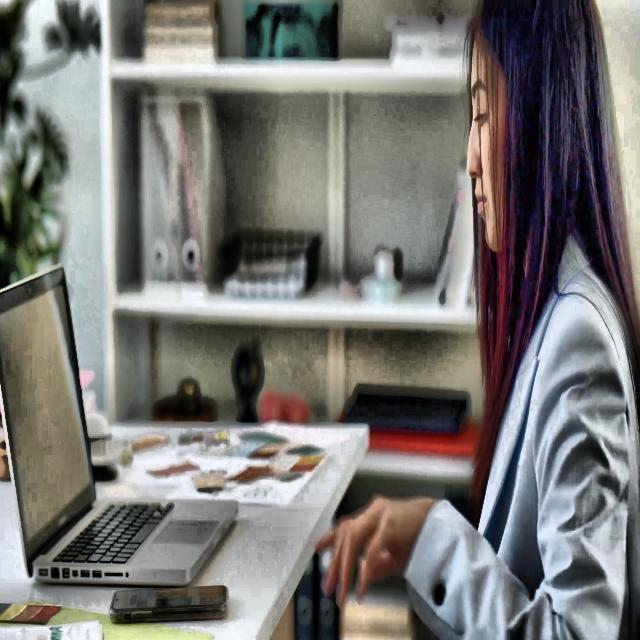Phone: (109, 583, 229, 624)
